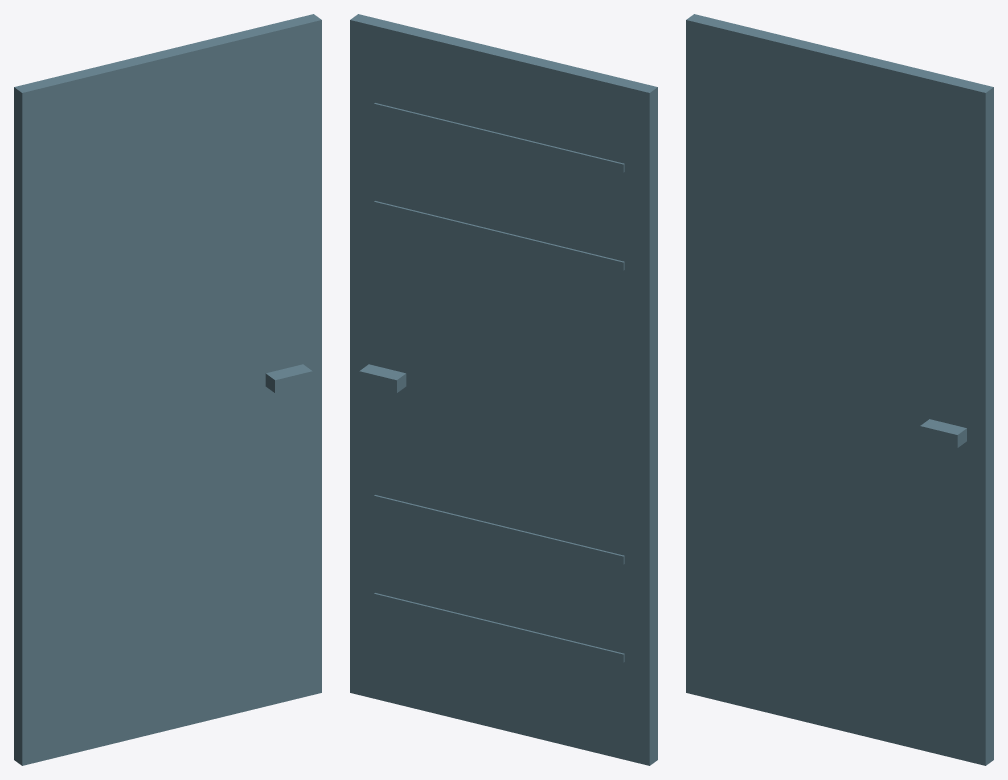
The model's file is door_metal.glb.
3 views of the same model, side by side, from view 1: azimuth 30°, elevation 25°; view 2: azimuth 150°, elevation 25°; view 3: azimuth 330°, elevation 25° (orthographic).
Visible parts, largest first — view 1: door_metal_Leaf, Handle.005; view 2: door_metal_Leaf, MetalRib.002, MetalRib, MetalRib.001, MetalRib.003, Handle.004; view 3: door_metal_Leaf, Handle.005.
Part boxes in pixels (bbox=[...]): door_metal_Leaf: bbox=[14, 14, 321, 765]; Handle.005: bbox=[265, 364, 312, 393]; door_metal_Leaf: bbox=[350, 14, 657, 765]; MetalRib.002: bbox=[374, 201, 624, 270]; MetalRib: bbox=[374, 593, 624, 662]; MetalRib.001: bbox=[374, 495, 624, 564]; MetalRib.003: bbox=[374, 103, 624, 172]; Handle.004: bbox=[359, 364, 406, 393]; door_metal_Leaf: bbox=[686, 14, 993, 765]; Handle.005: bbox=[920, 419, 966, 447].
Size of the model in its own units: 0.96 by 2.06 by 0.15.
